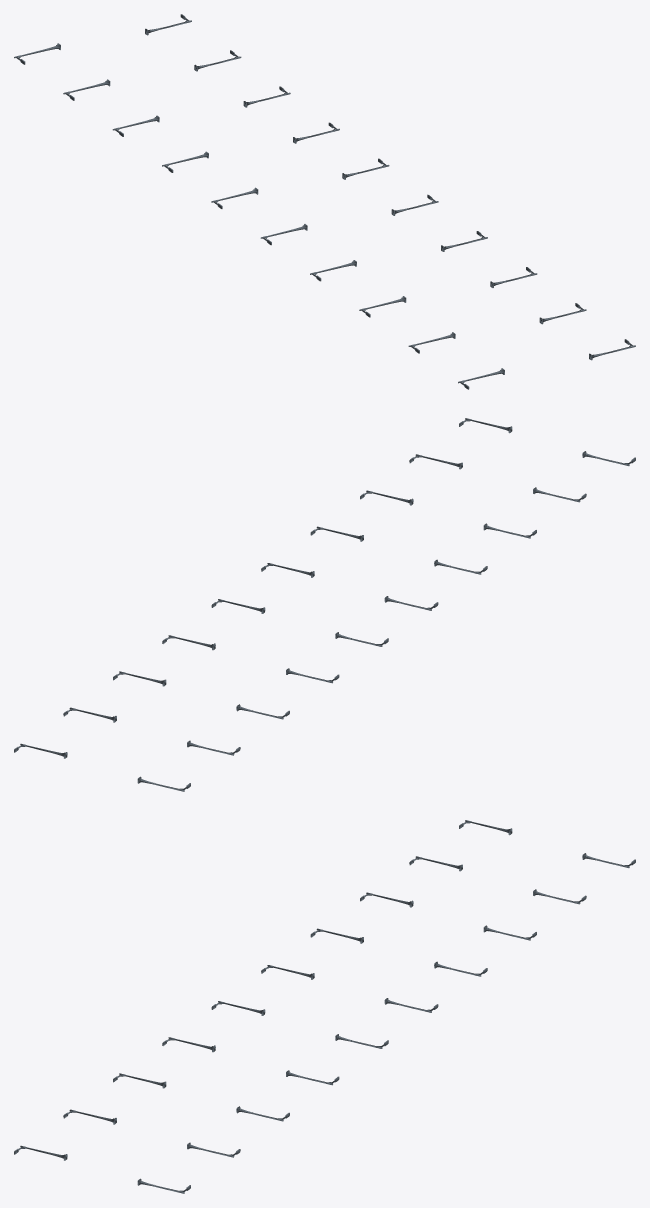
File: MandelaBridge_StreetLights.fbx
3 views of the same model, one above another, from view 1: azimuth 30°, elevation 25°; view 2: azimuth 150°, elevation 25°; view 3: azimuth 330°, elevation 25° (orthographic).
Bounding box in the file's own units: 30 × 0.9064 × 138.
